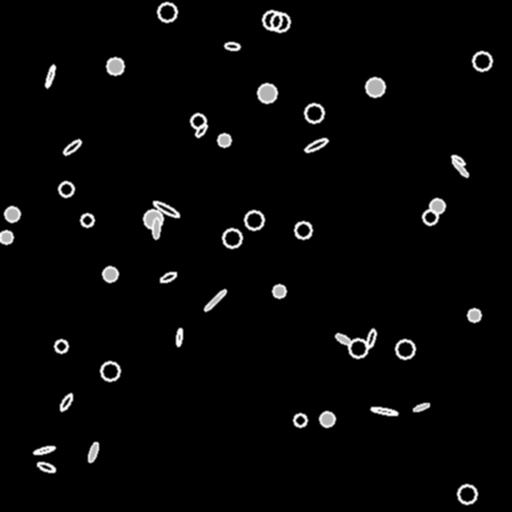pseudomonas: (203, 288, 227, 312), (152, 199, 180, 219), (304, 137, 328, 153), (451, 158, 469, 178), (62, 138, 82, 156), (58, 393, 74, 411), (44, 64, 56, 88), (370, 406, 398, 416), (87, 441, 99, 463), (159, 270, 177, 284), (334, 332, 352, 346), (194, 122, 208, 138), (37, 461, 55, 473), (34, 445, 54, 455), (366, 328, 376, 348), (450, 154, 466, 166), (412, 402, 430, 412), (152, 218, 160, 238), (175, 328, 183, 346), (224, 42, 240, 50)
synechocystis: (258, 84, 276, 102), (245, 211, 263, 229), (396, 340, 414, 358), (223, 229, 241, 247), (144, 210, 162, 228), (473, 52, 491, 70), (458, 485, 476, 503), (349, 339, 367, 357), (158, 3, 176, 21), (263, 11, 281, 29), (101, 362, 119, 380), (366, 78, 384, 96), (271, 13, 289, 31), (305, 104, 323, 122), (107, 58, 123, 74), (295, 222, 311, 238), (191, 114, 205, 128), (103, 267, 117, 281), (320, 412, 334, 426), (430, 199, 444, 213), (5, 207, 19, 221), (423, 210, 437, 224), (59, 182, 73, 196), (0, 231, 12, 243), (273, 285, 285, 297), (218, 134, 230, 146), (55, 340, 67, 352), (294, 414, 306, 426), (81, 214, 93, 226), (468, 309, 480, 321)
